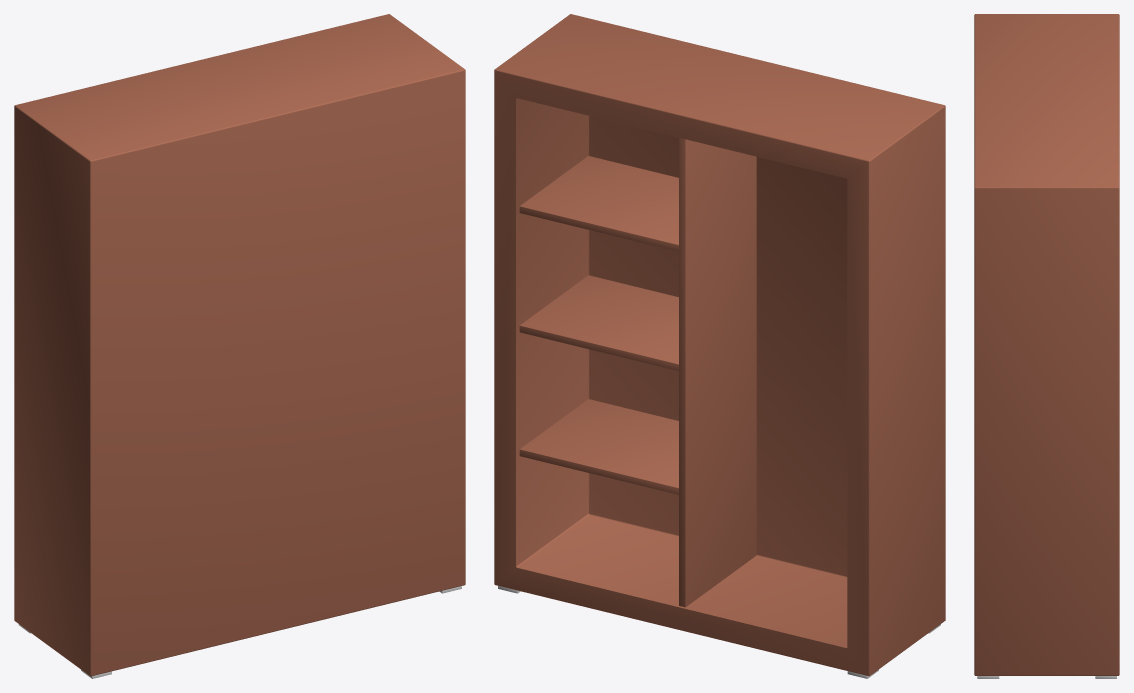
File: closet shelves.fbx
3 views of the same model, side by side, from view 1: azimuth 30°, elevation 25°; view 2: azimuth 150°, elevation 25°; view 3: azimuth 270°, elevation 25° (orthographic). The views are drawn at different scales.
Parts seen in each view (by area): view 1: Cube; view 2: Cube, Cube_1, Cube_2, Cube_5, Cube_2_2, Cube_3; view 3: Cube.
Part boxes in pixels (x1=…): Cube: x1=14, y1=14, x2=465, y2=676; Cube: x1=494, y1=14, x2=945, y2=676; Cube_1: x1=516, y1=98, x2=847, y2=647; Cube_2: x1=679, y1=138, x2=756, y2=607; Cube_5: x1=519, y1=399, x2=678, y2=494; Cube_2_2: x1=519, y1=156, x2=678, y2=251; Cube_3: x1=519, y1=275, x2=678, y2=370; Cube: x1=974, y1=14, x2=1119, y2=675.
Bounding box in the file's own units: 112 × 148 × 39.45.
